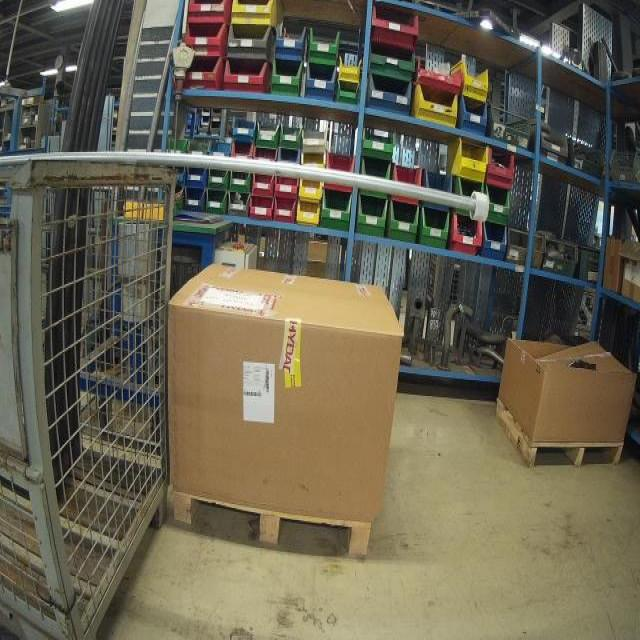pallet: (170, 488, 374, 558), (494, 397, 625, 468)
stillage: (4, 148, 191, 637)
